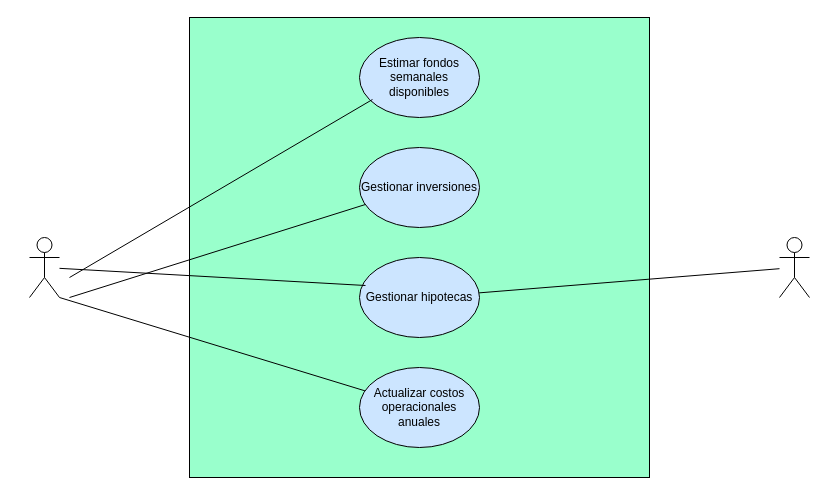
Some shapes in this 837 by 495 pixel diagram are drawn without their labels. Here are the shapes that lost their labels. From the top down, the centre of each, then its label:
At point (44, 267): "Empleado MSGF".
At point (794, 267): "Prestatrio".
